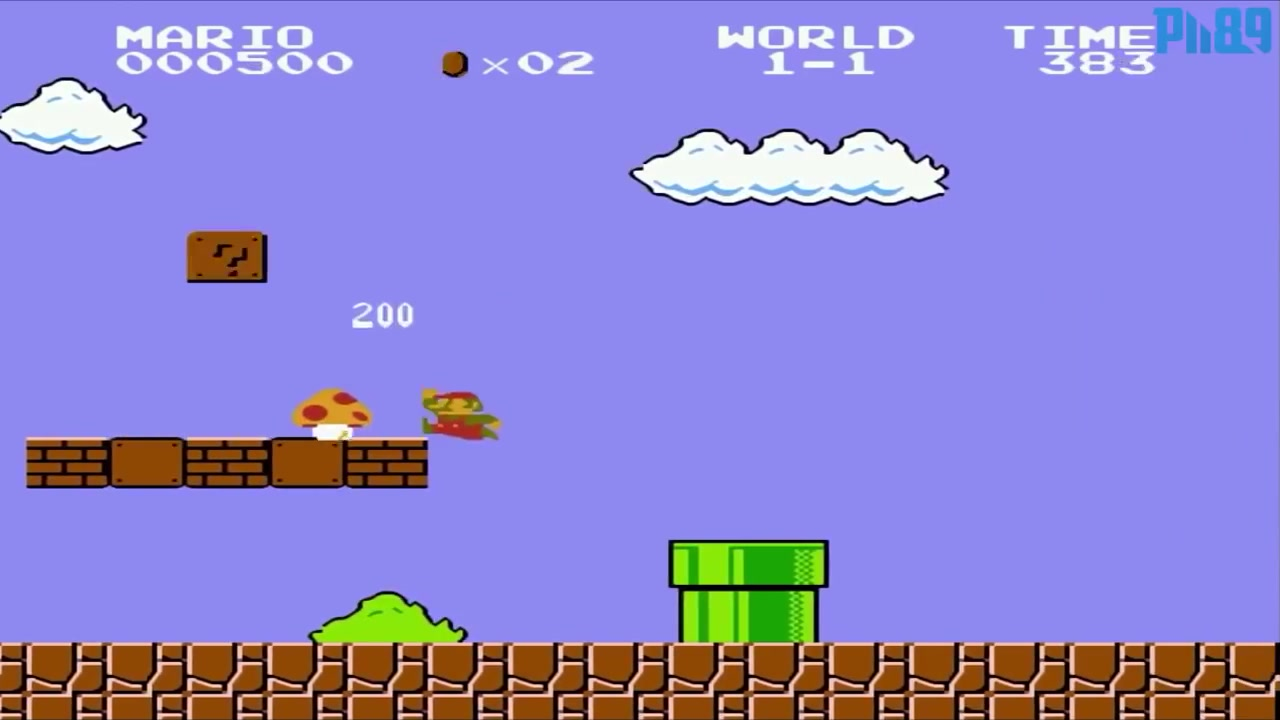mario: (413, 378, 509, 451)
